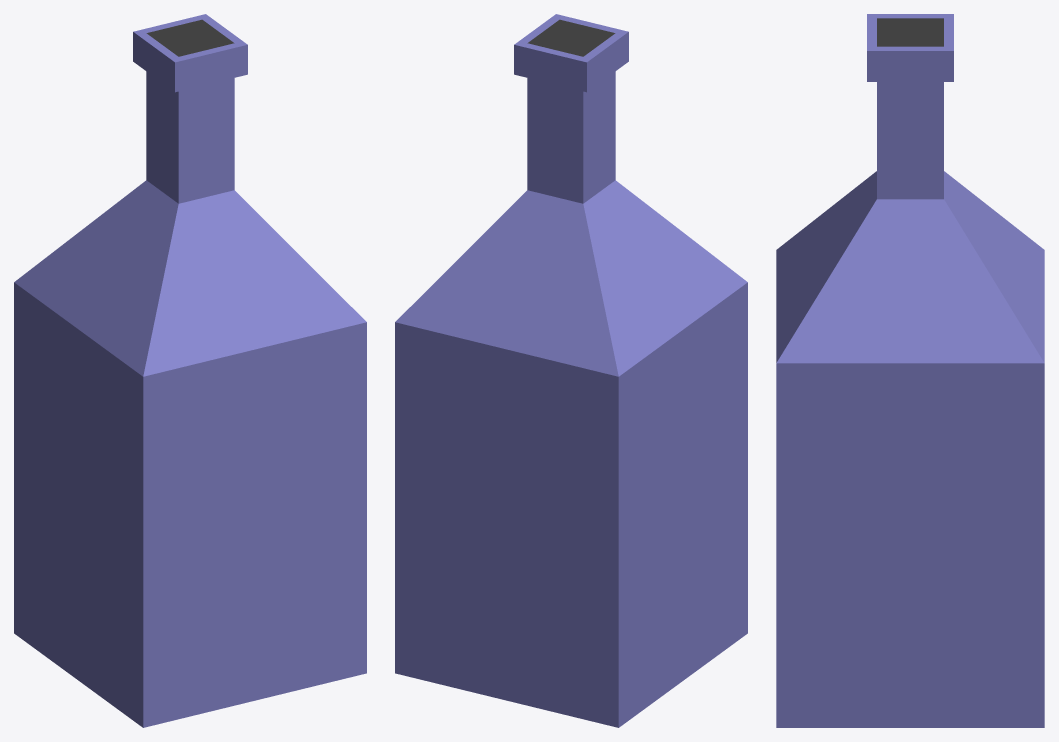
The model's file is Bottle1.fbx.
3 renders of one model, left to right at view 1: azimuth 30°, elevation 25°; view 2: azimuth 150°, elevation 25°; view 3: azimuth 270°, elevation 25°, orthographic. The views are drawn at different scales.
Parts seen in each view (by area): view 1: Cube; view 2: Cube; view 3: Cube.
Part boxes in pixels (x1,y1,x2,y2): Cube: [14, 14, 366, 727]; Cube: [395, 14, 747, 727]; Cube: [776, 14, 1044, 727].
Size of the model in its own units: 0.2 by 0.5255 by 0.2.
